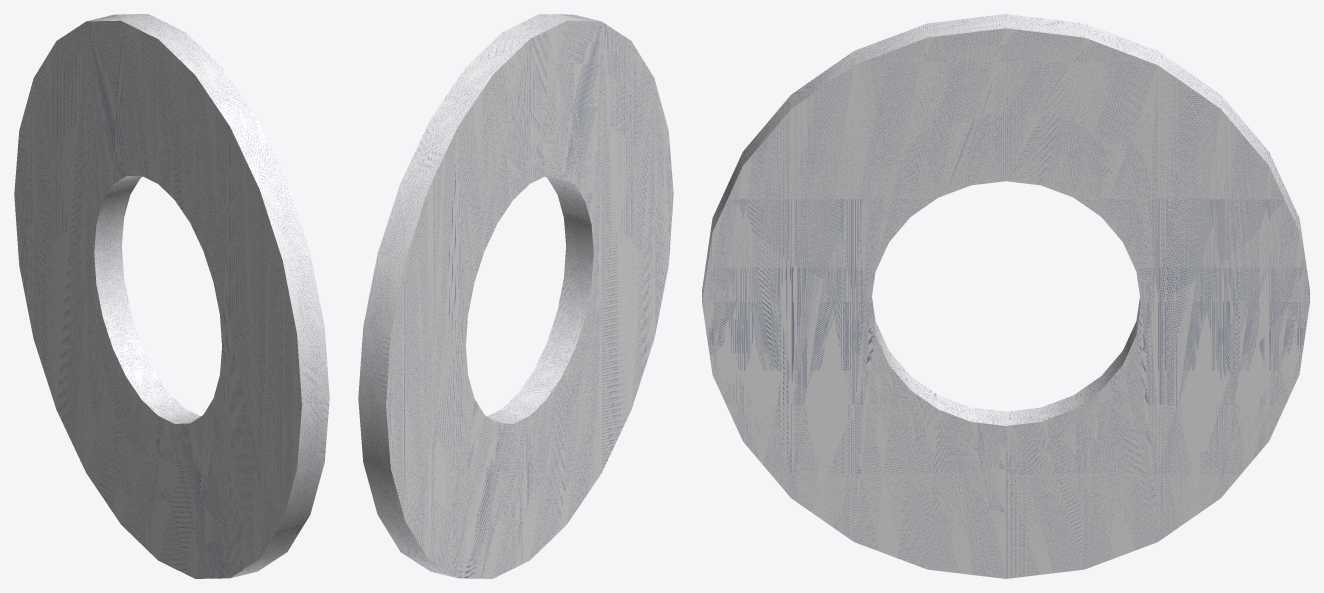
The model's file is original-11.obj.
3 views of the same model, side by side, from view 1: azimuth 30°, elevation 25°; view 2: azimuth 150°, elevation 25°; view 3: azimuth 270°, elevation 25° (orthographic). The views are drawn at different scales.
Visible parts, largest first — view 1: Washer_M8_5/Washer_M8_1_2/mesh5/mesh5-geometry#mesh5-geometry; view 2: Washer_M8_5/Washer_M8_1_2/mesh5/mesh5-geometry#mesh5-geometry; view 3: Washer_M8_5/Washer_M8_1_2/mesh5/mesh5-geometry#mesh5-geometry.
Boxes of the visible parts, x1,y1,x2,y2 form: Washer_M8_5/Washer_M8_1_2/mesh5/mesh5-geometry#mesh5-geometry: [14, 14, 329, 578]; Washer_M8_5/Washer_M8_1_2/mesh5/mesh5-geometry#mesh5-geometry: [358, 14, 673, 578]; Washer_M8_5/Washer_M8_1_2/mesh5/mesh5-geometry#mesh5-geometry: [702, 14, 1309, 578].
Size of the model in its own units: 0.00241 by 0.0433 by 0.0433.
